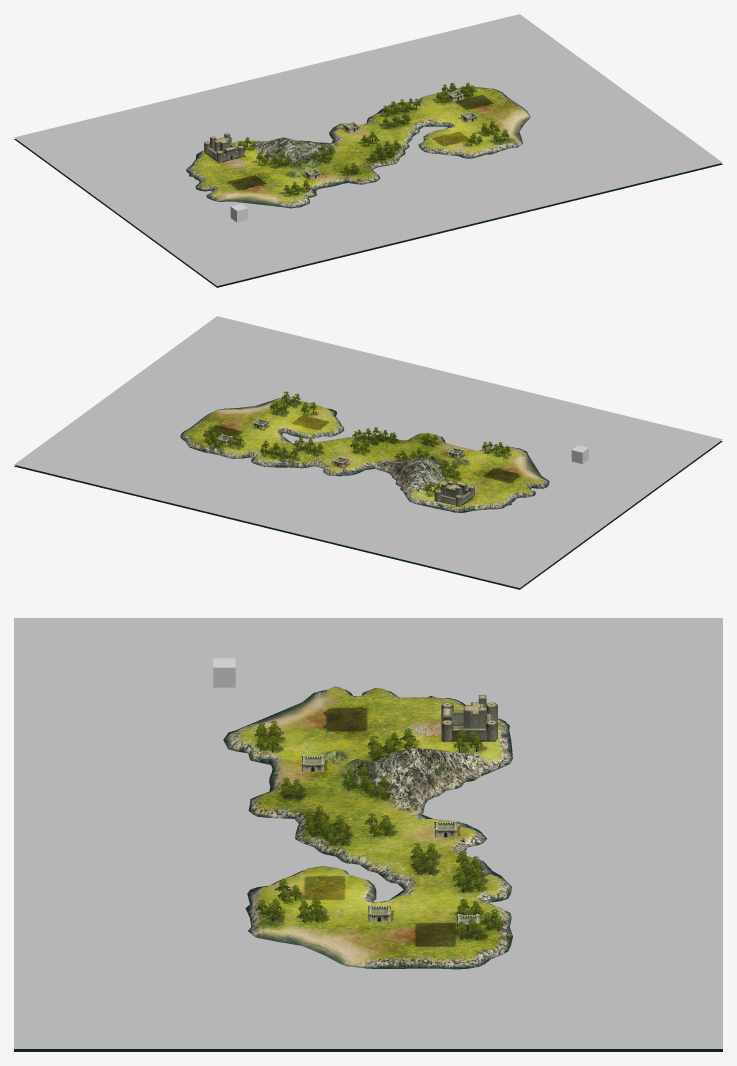
3 renders of one model, top to bottom at view 1: azimuth 30°, elevation 25°; view 2: azimuth 150°, elevation 25°; view 3: azimuth 270°, elevation 25°, orthographic. The views are drawn at different scales.
Parts seen in each view (by area): view 1: Waves, Terrain, Bushes, Castle, Forts; view 2: Waves, Terrain, Bushes, Castle, Forts; view 3: Waves, Terrain, Bushes, Castle, Forts, Cube.
Boxes of the visible parts, x1,y1,x2,y2 form: Waves: (14,14,722,285); Terrain: (14,86,722,287); Bushes: (237,82,509,195); Castle: (204,133,244,162); Forts: (304,90,477,179); Waves: (14,316,722,587); Terrain: (14,398,722,589); Bushes: (202,391,510,493); Castle: (434,480,474,506); Forts: (216,418,463,467); Waves: (14,618,722,1048); Terrain: (14,686,722,1051); Bushes: (254,720,504,939); Castle: (441,695,497,740); Forts: (302,754,479,930); Cube: (213,658,235,687).
Bounding box in the file's own units: 23000 × 879 × 16000.
